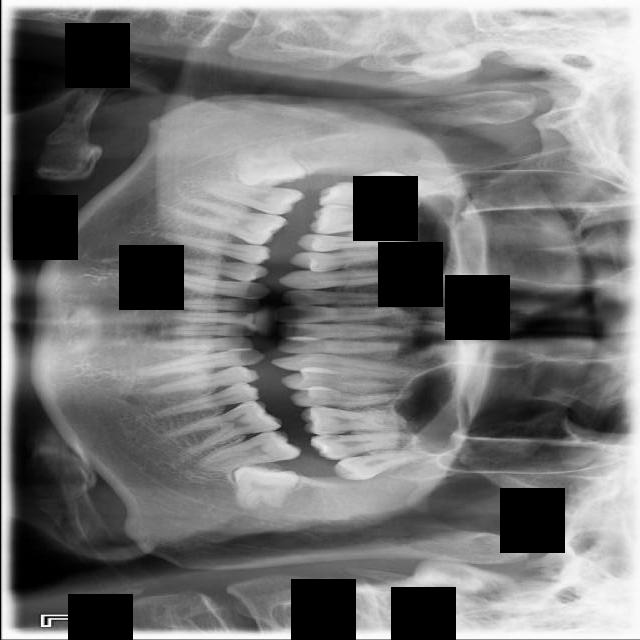3M ESPE Implant: (356, 170, 443, 196)
73: (50, 593, 70, 600)
BioHorizons Implant: (309, 428, 421, 462)
BioLife Implant: (331, 444, 431, 484)
Biomet 3i Implant: (232, 462, 299, 511)
Blue Sky Bio Implant: (191, 426, 303, 476)
Caries: (315, 178, 421, 217)
Implant: (197, 176, 305, 218)
Keystone Dental Implant: (233, 140, 307, 192)
